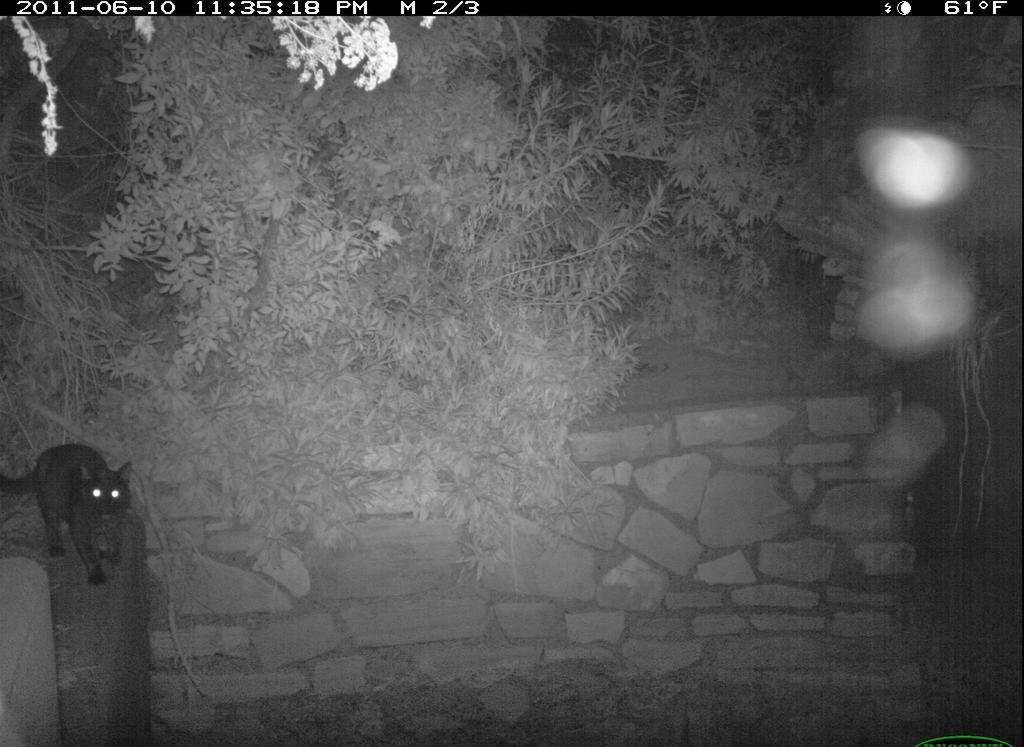cat: (29, 422, 152, 578)
